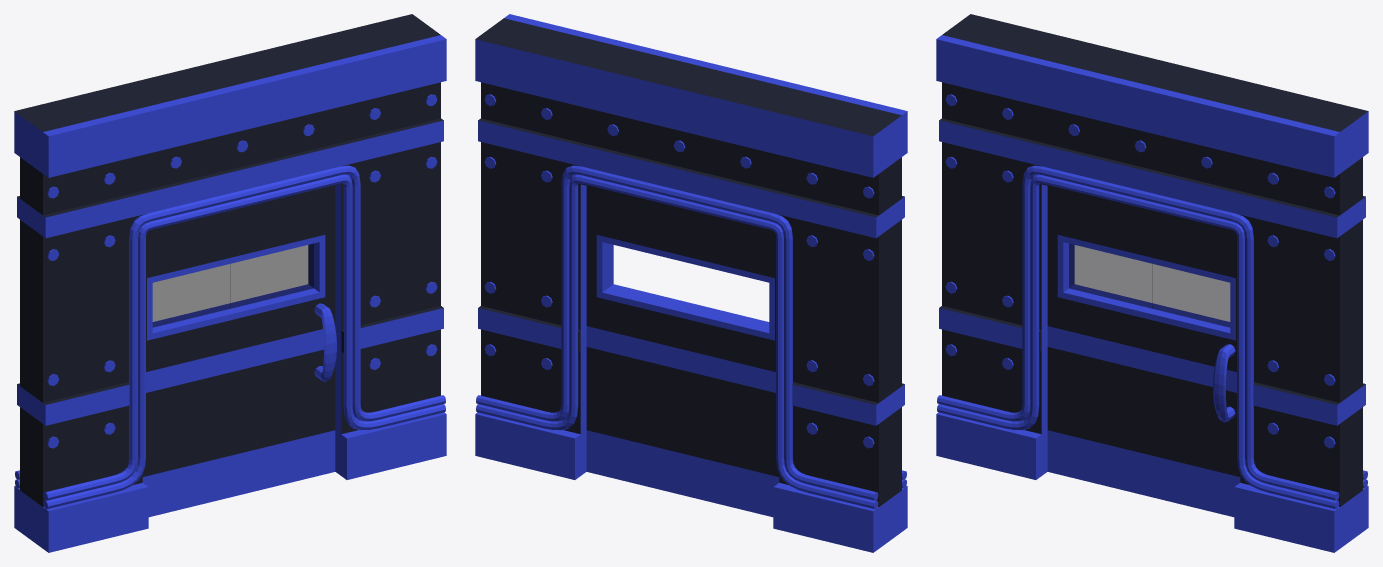
Rendered from Door_Closed.fbx.
3 views of the same model, side by side, from view 1: azimuth 30°, elevation 25°; view 2: azimuth 150°, elevation 25°; view 3: azimuth 330°, elevation 25° (orthographic).
Parts seen in each view (by area): view 1: Door_Closed; view 2: Door_Closed; view 3: Door_Closed.
Boxes of the visible parts, x1,y1,x2,y2 form: Door_Closed: (14, 14, 446, 552); Door_Closed: (475, 14, 907, 552); Door_Closed: (936, 14, 1368, 552).
Bounding box in the file's own units: 200 × 200 × 30.
